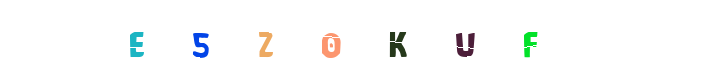0: (308, 0, 388, 80)
5: (160, 0, 240, 80)
E: (97, 0, 177, 80)
F: (489, 0, 569, 80)
K: (318, 0, 398, 80)
U: (390, 0, 470, 80)
Z: (265, 0, 345, 80)
